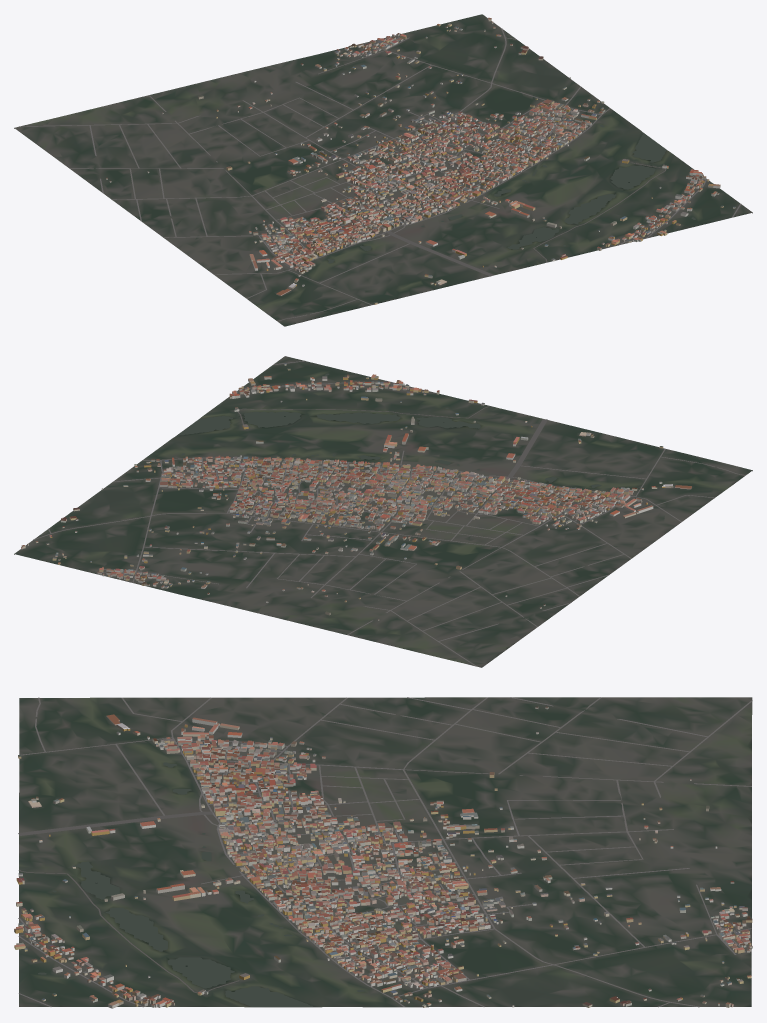
3 renders of one model, top to bottom at view 1: azimuth 30°, elevation 25°; view 2: azimuth 150°, elevation 25°; view 3: azimuth 270°, elevation 25°, orthographic. The views are drawn at different scales.
Visible parts, largest first — view 1: ground, buildings, roads, water; view 2: ground, buildings, roads, water; view 3: ground, buildings, roads, water.
Boxes of the visible parts, left/top/right/bottom form: ground: left=14, top=14, right=752, bottom=326; buildings: left=106, top=17, right=735, bottom=304; roads: left=19, top=28, right=741, bottom=321; water: left=327, top=125, right=695, bottom=263; ground: left=14, top=356, right=752, bottom=667; buildings: left=21, top=363, right=691, bottom=620; roads: left=33, top=361, right=745, bottom=666; water: left=177, top=373, right=601, bottom=487; ground: left=19, top=697, right=752, bottom=1007; buildings: left=14, top=706, right=752, bottom=1008; roads: left=18, top=697, right=752, bottom=1007; water: left=38, top=762, right=364, bottom=1006.
Size of the model in its own units: 1407 by 16.07 by 1414.
